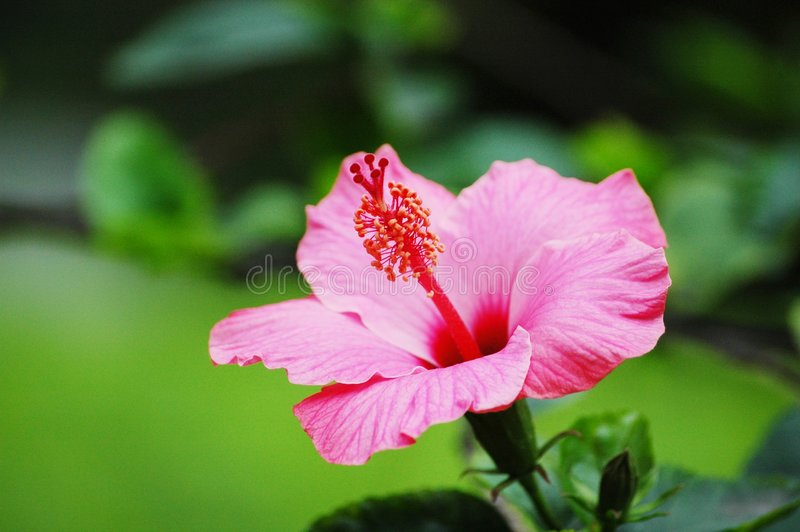Hibiscus: (198, 91, 662, 488), (601, 382, 689, 528)
